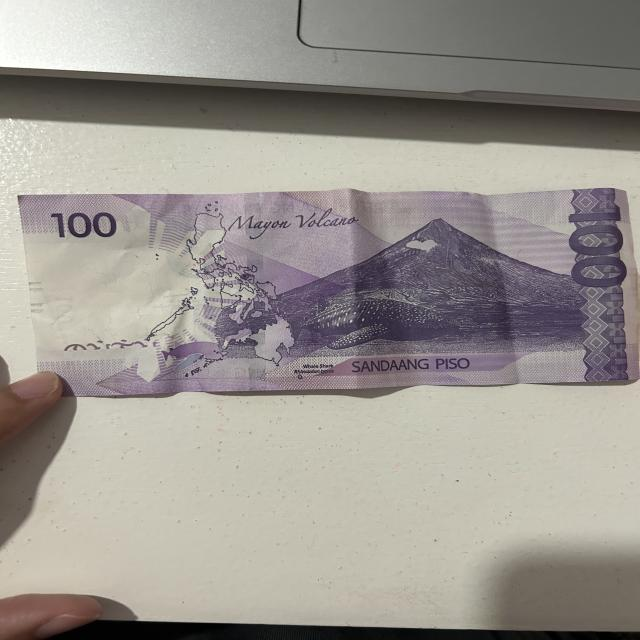100_whale: (286, 298, 462, 349)
100_whale_watermark: (161, 336, 232, 370)
value_watermark: (50, 298, 83, 324)
